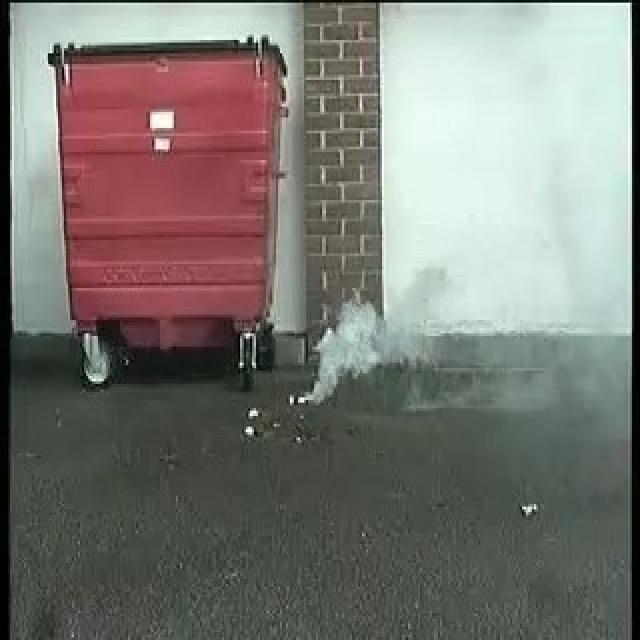smoke: (310, 282, 456, 410)
